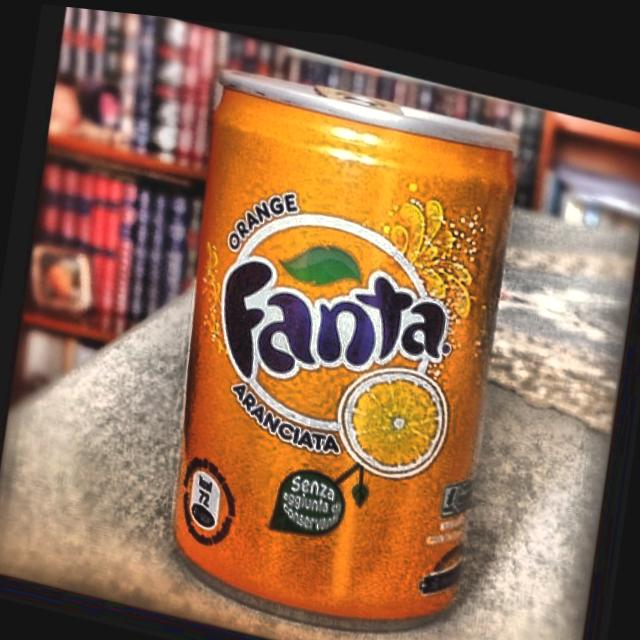Cans: (132, 31, 558, 640)
